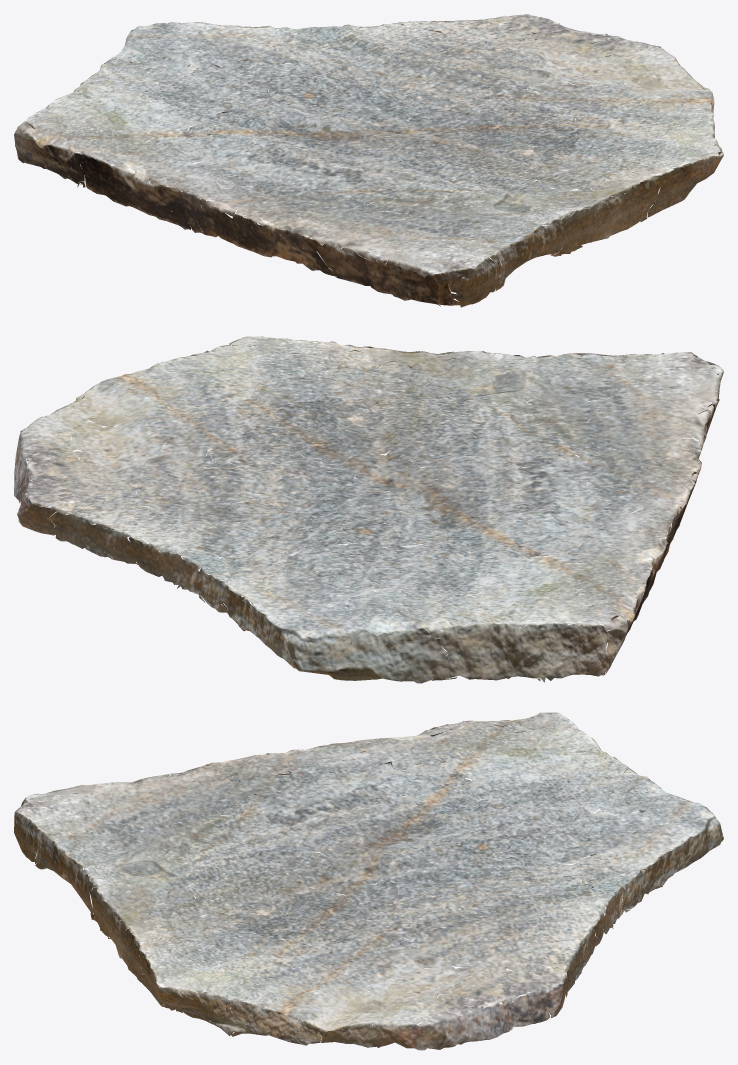
Rendered from Rock_1.glb.
3 views of the same model, one above another, from view 1: azimuth 30°, elevation 25°; view 2: azimuth 150°, elevation 25°; view 3: azimuth 270°, elevation 25° (orthographic). The views are drawn at different scales.
Parts seen in each view (by area): view 1: Object_2.007; view 2: Object_2.007; view 3: Object_2.007.
Boxes of the visible parts, x1,y1,x2,y2 form: Object_2.007: [14, 14, 723, 307]; Object_2.007: [14, 336, 723, 683]; Object_2.007: [14, 712, 723, 1050].
Size of the model in its own units: 0.3815 by 0.0341 by 0.383.
Materials: 1 (1 with a texture image).
